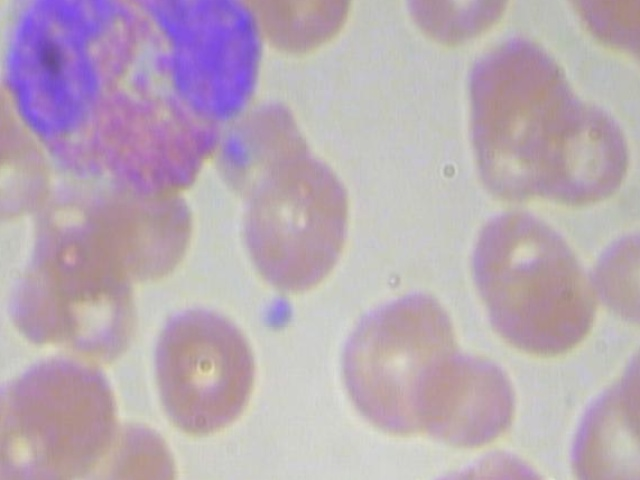Platelets: (255, 293, 299, 335)
RBC: (228, 144, 370, 298), (330, 290, 472, 443), (146, 302, 265, 437), (412, 344, 522, 457), (491, 251, 600, 365), (530, 97, 639, 210), (77, 409, 187, 480), (378, 0, 525, 50)
WBC: (0, 0, 267, 199)
